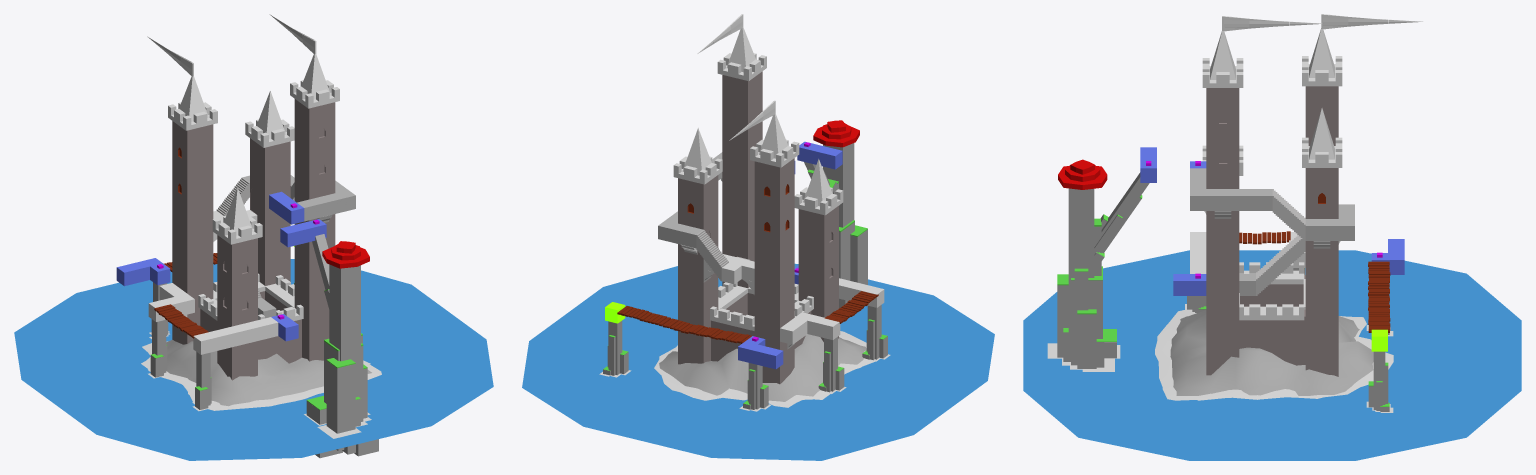
The model's file is LEVEL1FIN.fbx.
The picture shows the model from 3 angles, left to right: view 1: azimuth 30°, elevation 25°; view 2: azimuth 150°, elevation 25°; view 3: azimuth 270°, elevation 25°; orthographic projection. The views are drawn at different scales.
Parts seen in each view (by area): view 1: Plane, Cube__2_, Cube__4_.001, Cube.046, Landscape, Cube__4_, Cube__1_, Cube.039, Landscape.001, Cube, Cube__14_, platform (+13 smaller); view 2: Plane, Cube__2_, Cube__4_.001, Cube__1_, Landscape, Cube__4_, Cube.046, Landscape.001, Cube.012, Cube.037, Cube, platform (+16 smaller); view 3: Plane, Landscape, Cube__4_.001, Cube.046, Cube__1_, Cube, Landscape.001, Cube__14_, Cube__2_, Cube.012, Cube.059, Cube__16_ (+13 smaller).
Part boxes in pixels (x1,y1,x2,y2): Plane: (14,259,493,460); Cube__2_: (172,121,213,344); Cube__4_.001: (294,99,335,361); Cube.046: (306,264,367,458); Landscape: (166,339,371,406); Cube__4_: (217,235,257,380); Cube__1_: (250,138,290,285); Cube.039: (193,317,278,354); Landscape.001: (141,341,381,410); Cube: (200,291,301,363); Cube__14_: (297,180,355,221); platform: (116,258,170,286); Plane: (522,263,994,460); Cube__2_: (754,158,794,384); Cube__4_.001: (722,71,762,287); Cube__1_: (678,175,718,364); Landscape: (659,334,866,401); Cube__4_: (798,206,838,341); Cube.046: (823,143,867,308); Landscape.001: (654,331,874,407); Cube.012: (617,306,751,343); Cube.037: (780,312,840,344); Cube: (711,293,811,361); platform: (738,336,783,369); Plane: (1023,250,1521,460); Landscape: (1170,310,1373,395); Cube__4_.001: (1206,88,1239,375); Cube.046: (1057,188,1116,368); Cube__1_: (1305,168,1338,376); Cube: (1239,275,1305,365); Landscape.001: (1155,310,1393,400); Cube__14_: (1190,168,1272,210); Cube__2_: (1305,86,1338,145); Cube.012: (1368,261,1390,332); Cube.059: (1094,172,1149,271); Cube__16_: (1305,205,1354,240).
Bounding box in the file's own units: 906 × 803 × 906.
